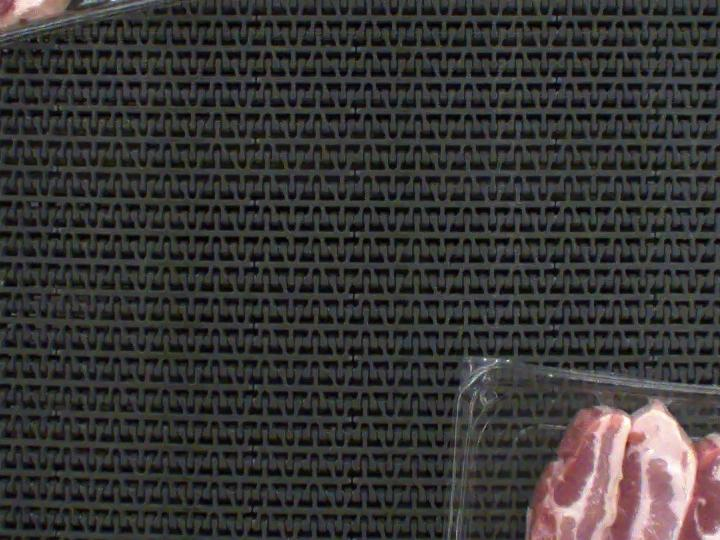packaging-error: (580, 383, 626, 412), (643, 387, 676, 413)
